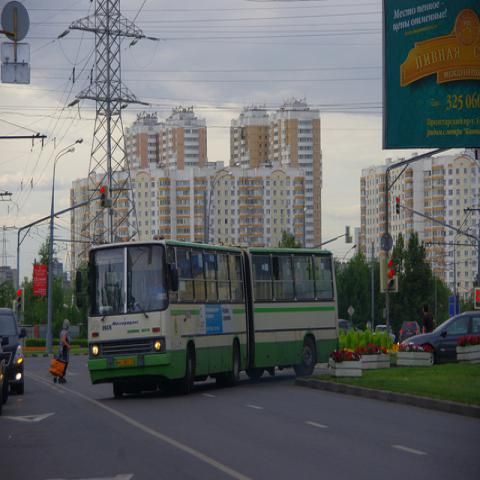bus: (86, 234, 341, 398)
car: (401, 311, 479, 366), (1, 307, 22, 385), (0, 343, 9, 416), (372, 322, 396, 343), (399, 322, 422, 343), (339, 319, 366, 333)
truck: (1, 304, 26, 389)
